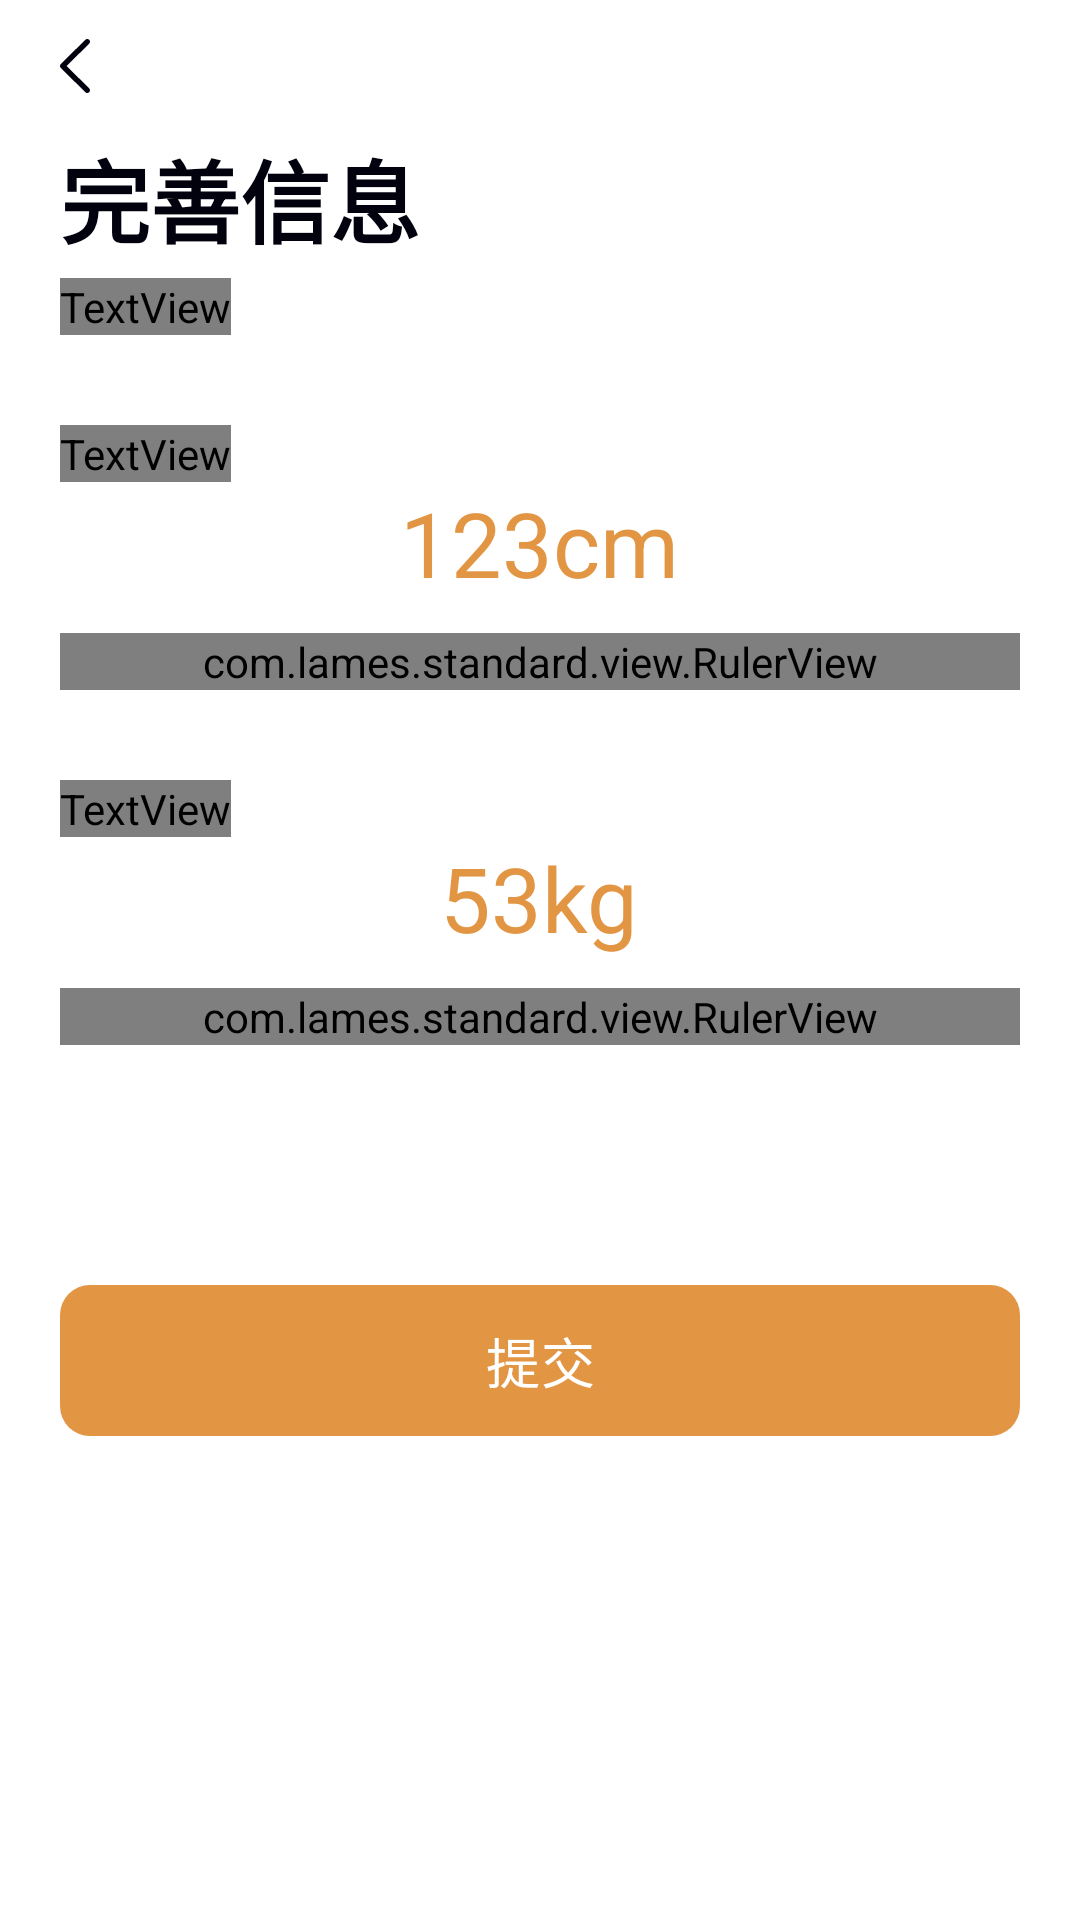

Locate icon controls on the screen. Image size 1080x1920, boxes as (x1, y1, x2, y2).
back: (60, 39, 90, 93)
